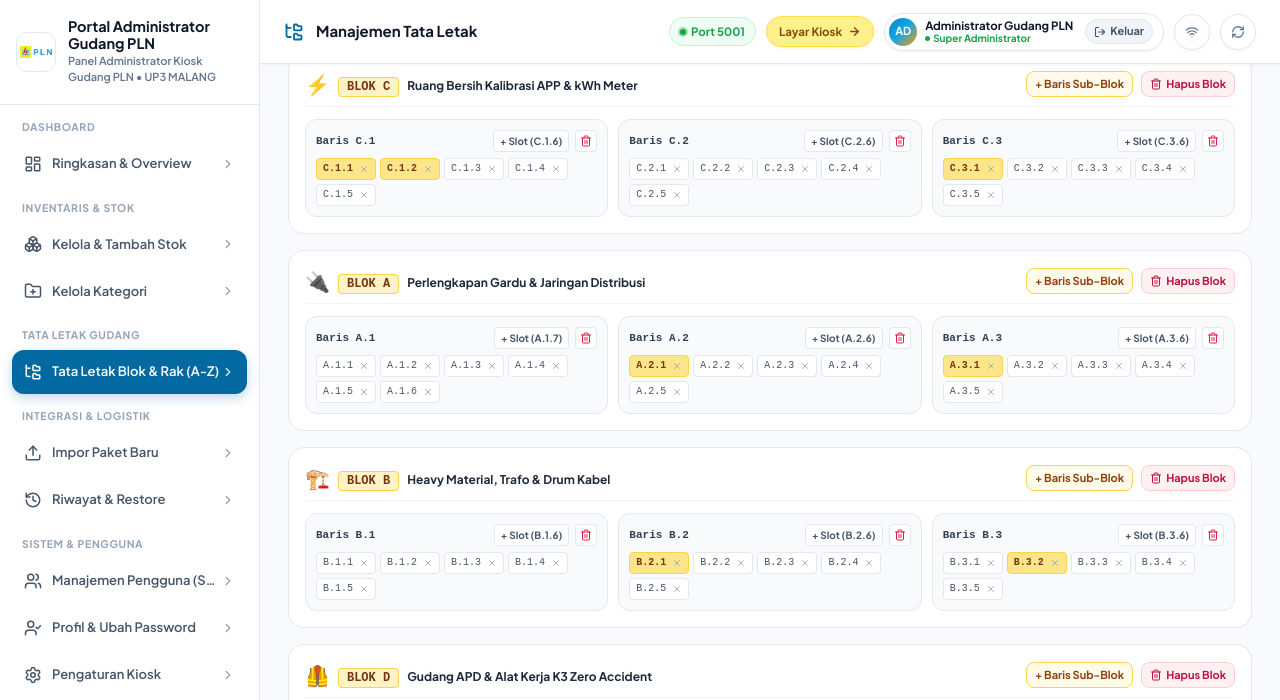
Test: Warehouse Hierarchy Deletion Tests (Blok, Sub-Blok, Slot) › allows deleting an individual slot with confirmation modal in Admin Locations tab
(page scrolled)
Click the button titled "Hapus Slot A.1.6": {"x": 428, "y": 392} [421,385,435,399]
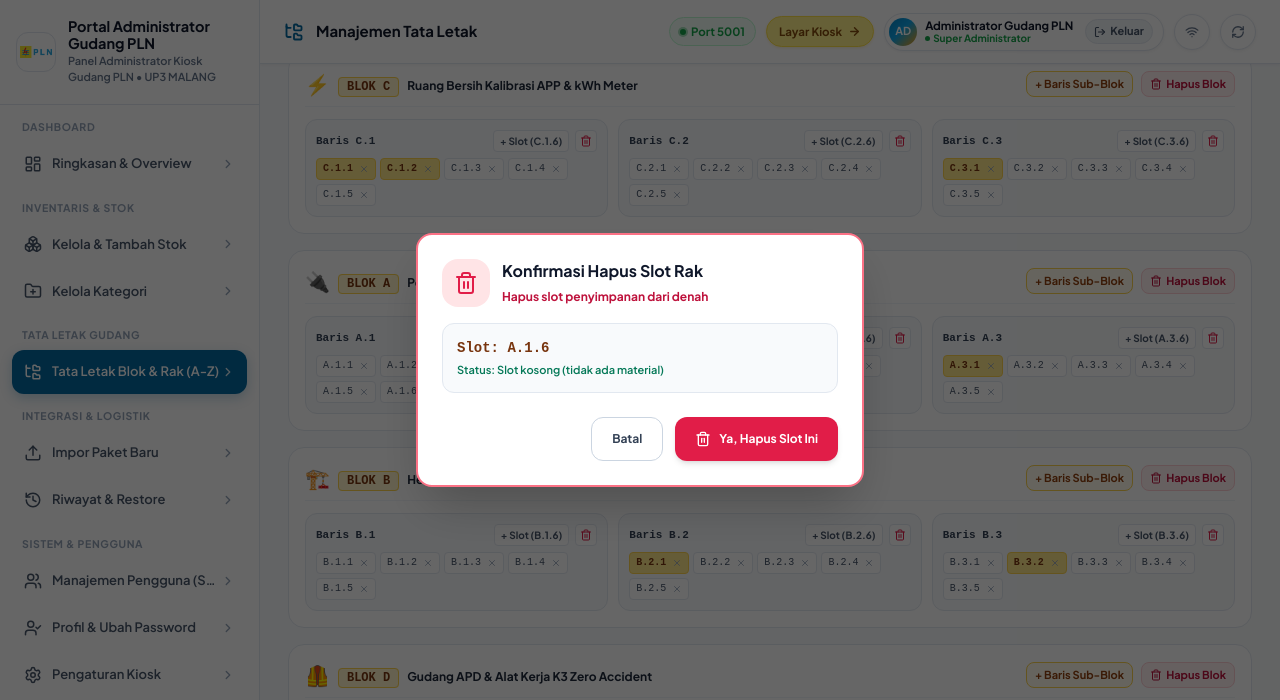
Check: the heading "Konfirmasi Hapus Slot Rak" is shown, box [502,259,708,283]
Check: the text "Slot: A.1.6" is shown, box [457,340,549,356]
Note: Click "Ya, Hapus Slot Ini"
Click the button "Ya, Hapus Slot Ini": {"x": 757, "y": 439} [675,417,838,461]
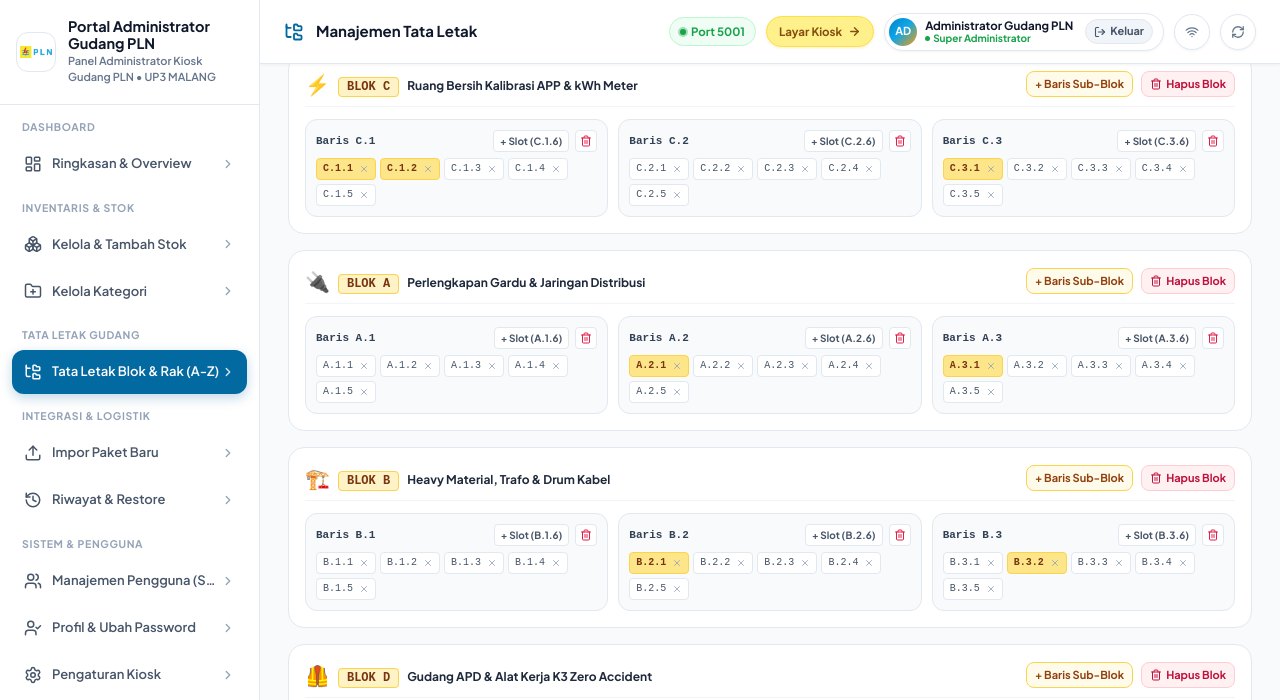
Check: the heading "Konfirmasi Hapus Slot Rak" is gone
